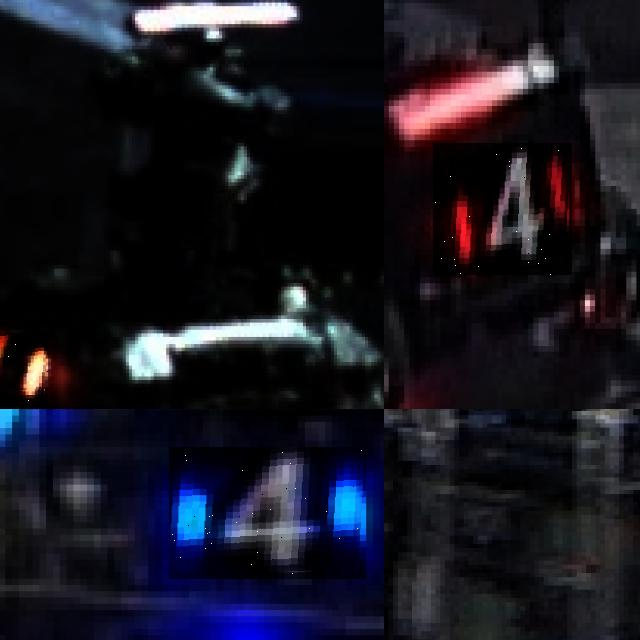B4: (169, 447, 366, 579)
R4: (433, 143, 572, 275)
Rs: (0, 333, 48, 409)
